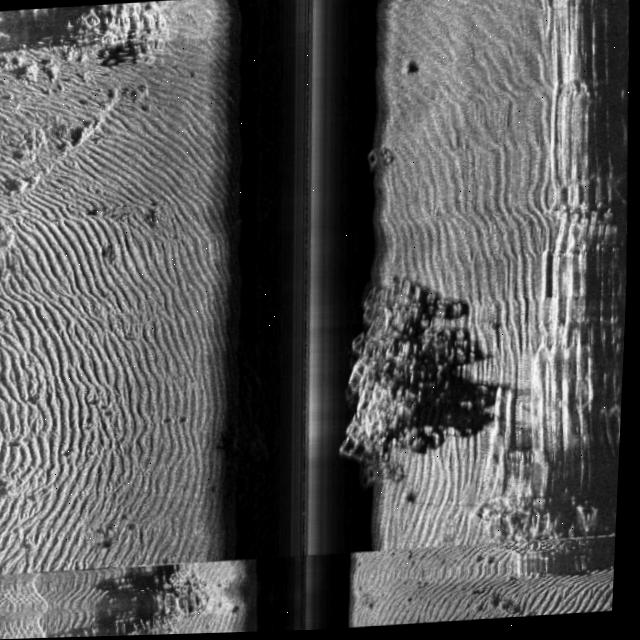artificial reef: (312, 275, 445, 516), (363, 151, 396, 190)
